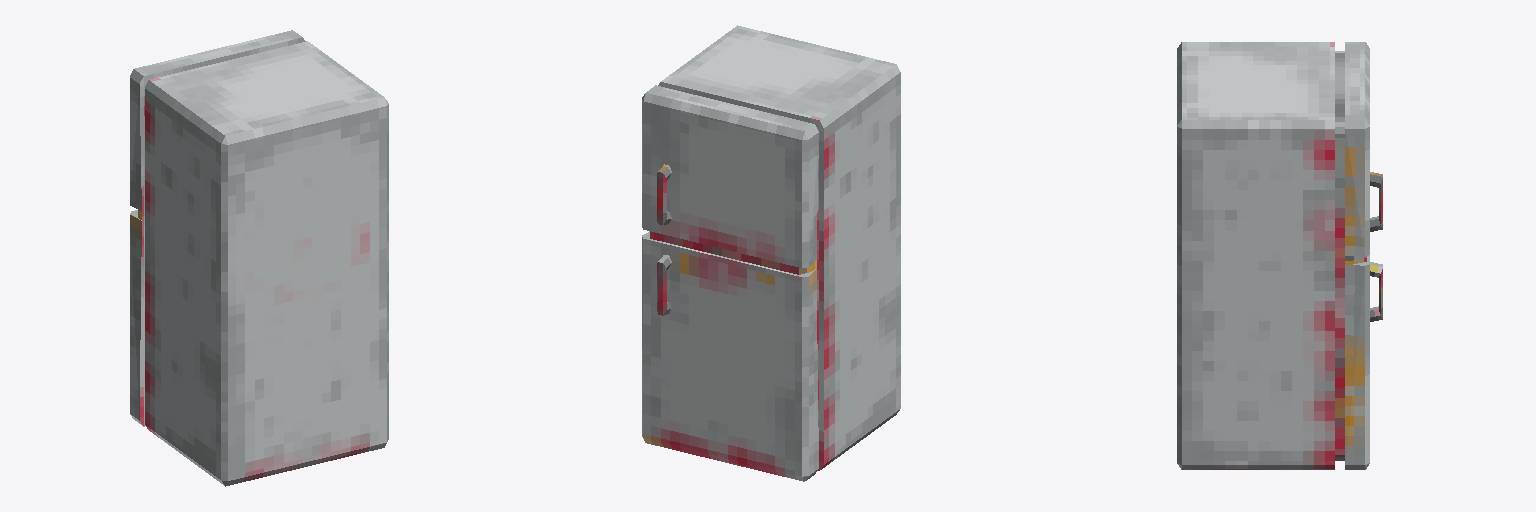
3 renders of one model, left to right at view 1: azimuth 30°, elevation 25°; view 2: azimuth 150°, elevation 25°; view 3: azimuth 270°, elevation 25°, orthographic.
Visible parts, largest first — view 1: beveled_cuboid; view 2: beveled_cuboid, torus.001, torus; view 3: beveled_cuboid.
Part boxes in pixels (left/top/right/bottom): beveled_cuboid: left=130, top=30, right=388, bottom=486; beveled_cuboid: left=642, top=25, right=900, bottom=481; torus.001: left=657, top=255, right=671, bottom=315; torus: left=657, top=164, right=671, bottom=224; beveled_cuboid: left=1177, top=42, right=1369, bottom=469.
Size of the model in its own units: 2.19 by 4.38 by 2.33.
1 materials, 1 textured.